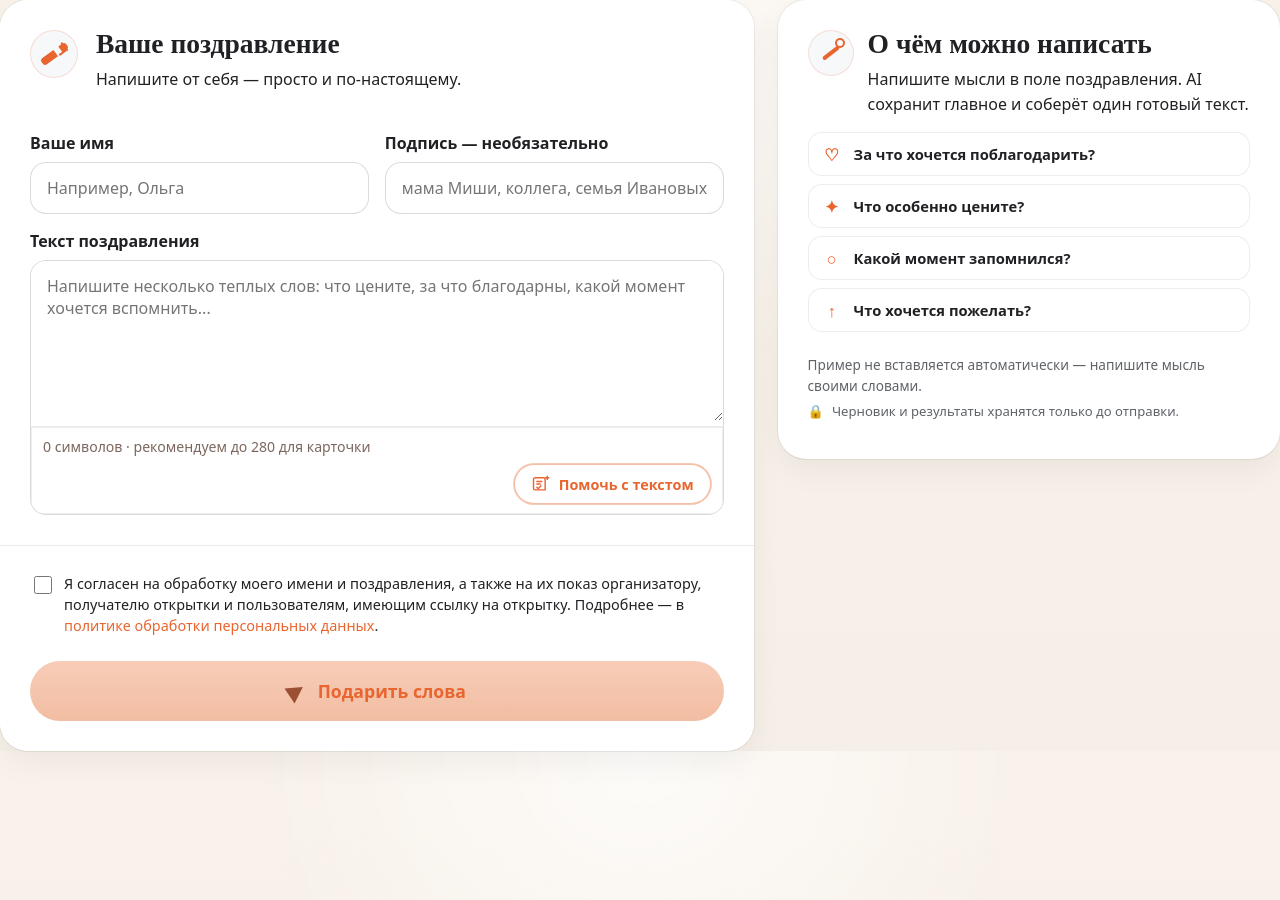
Test case: ParticipantForm — одновариантный AI flow › раскрывает действие без списания и отправляет запрос только по отдельному CTA
Replace the text in the text box labelled "Текст поздравления" with "Спасибо за поддержку и помощь. Желаю радостных дней.": (377, 342) [31,262,723,422]
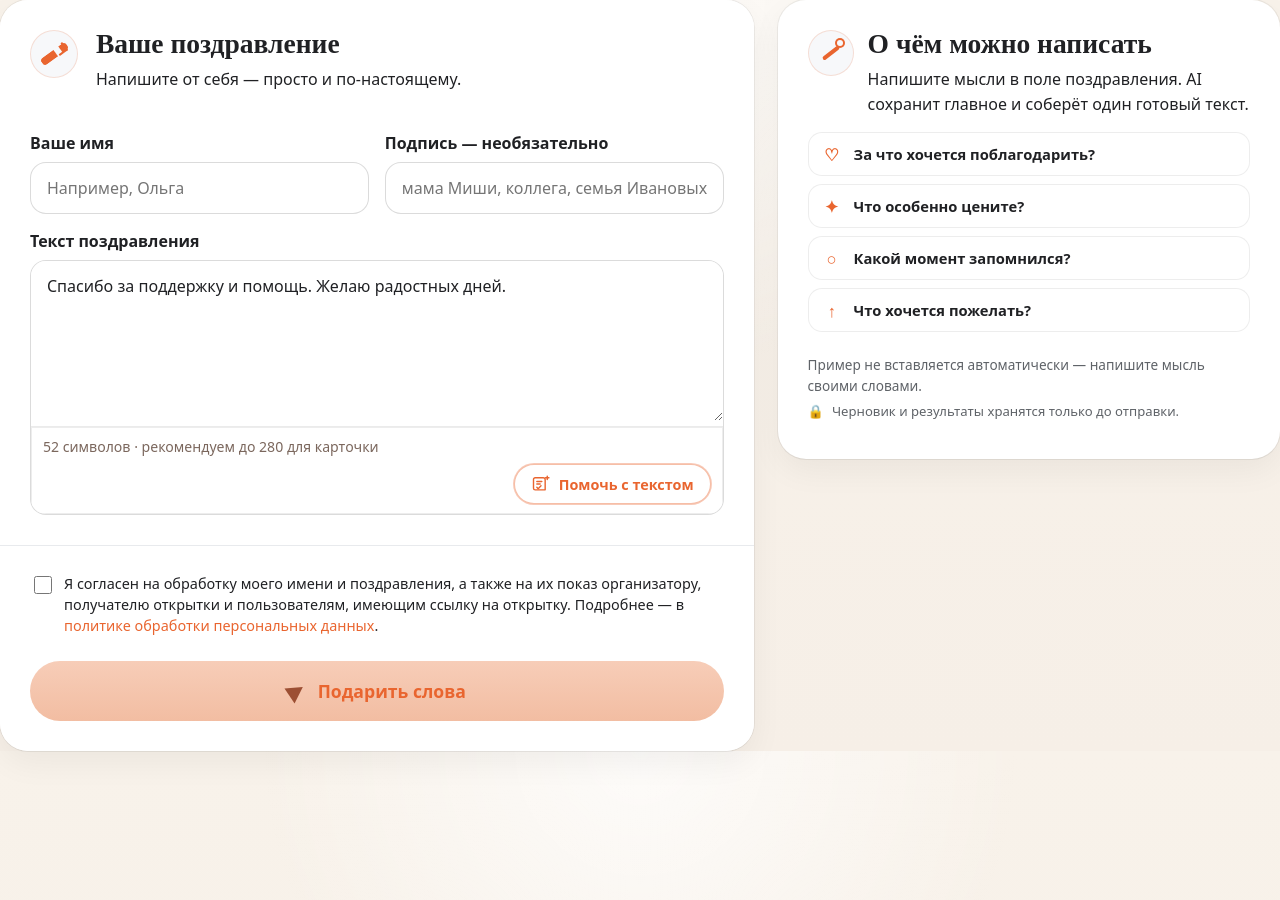
Click the button "Помочь с текстом": (612, 484) [514,464,711,504]
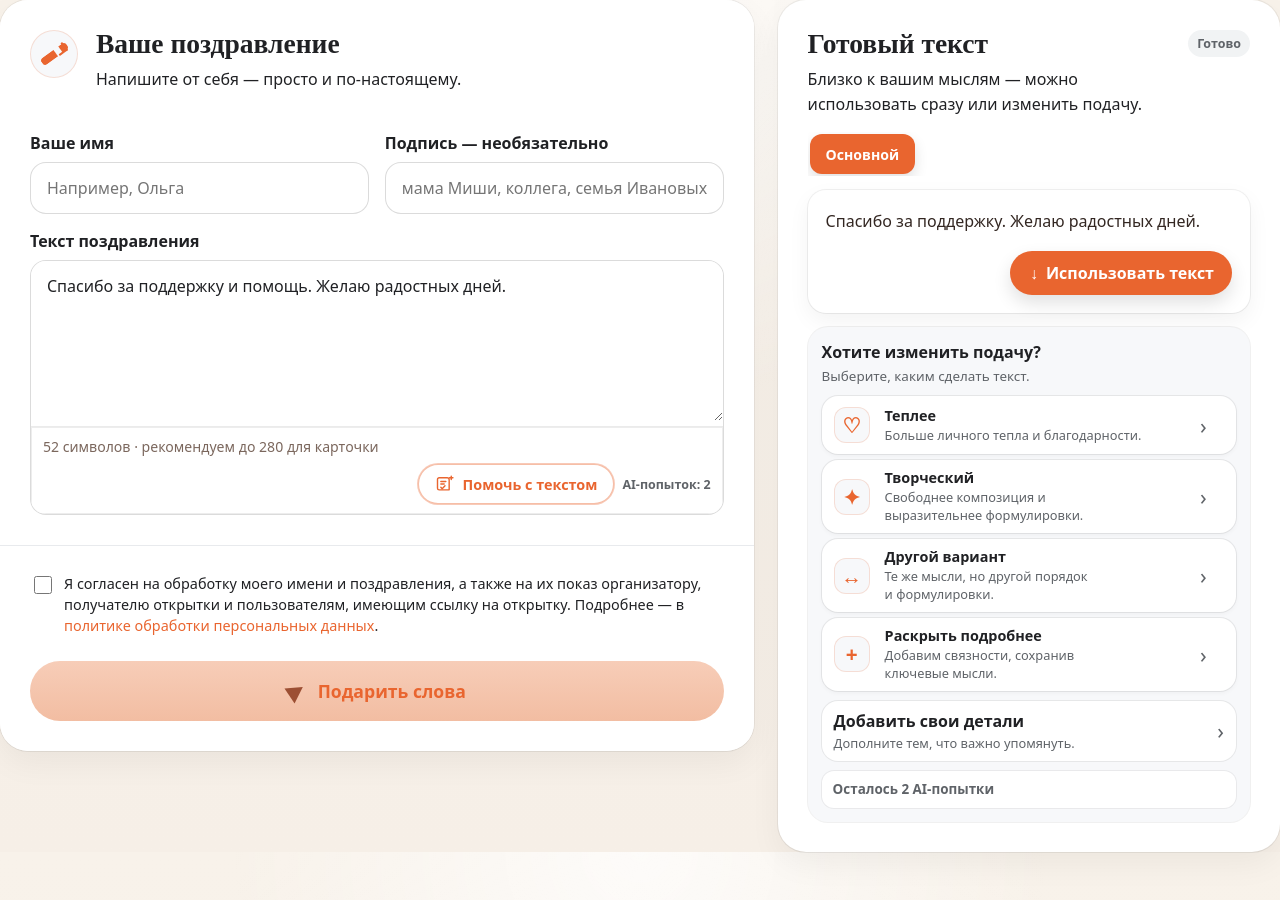
Expected: the text "Спасибо за поддержку. Желаю радостных дней." is shown, [826,208,1232,235]
Click the button "♡ Теплее Больше личного тепла и благодарности. ›": (1029, 425) [822,396,1236,454]
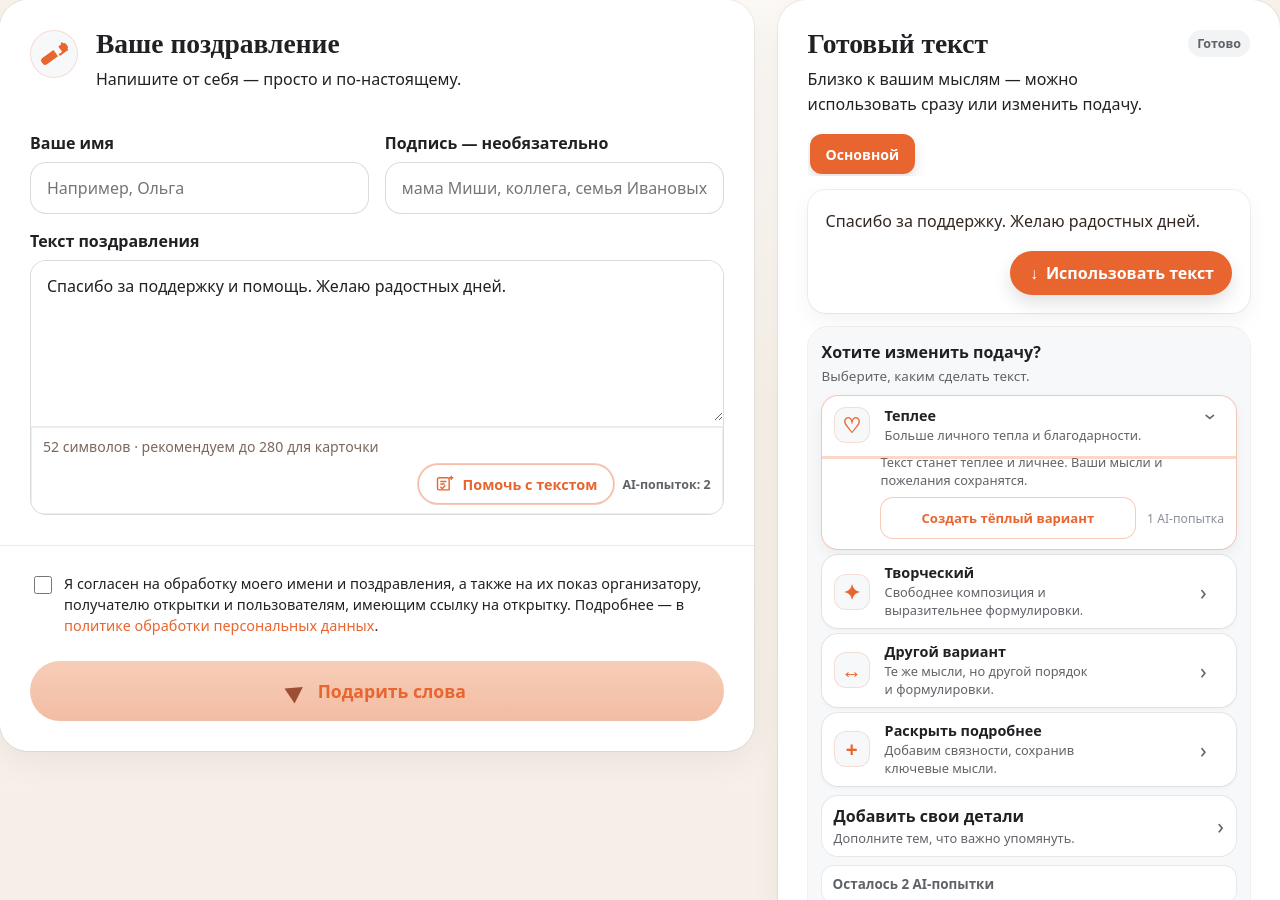
Click the button "Создать тёплый вариант": (1008, 518) [881,498,1135,538]
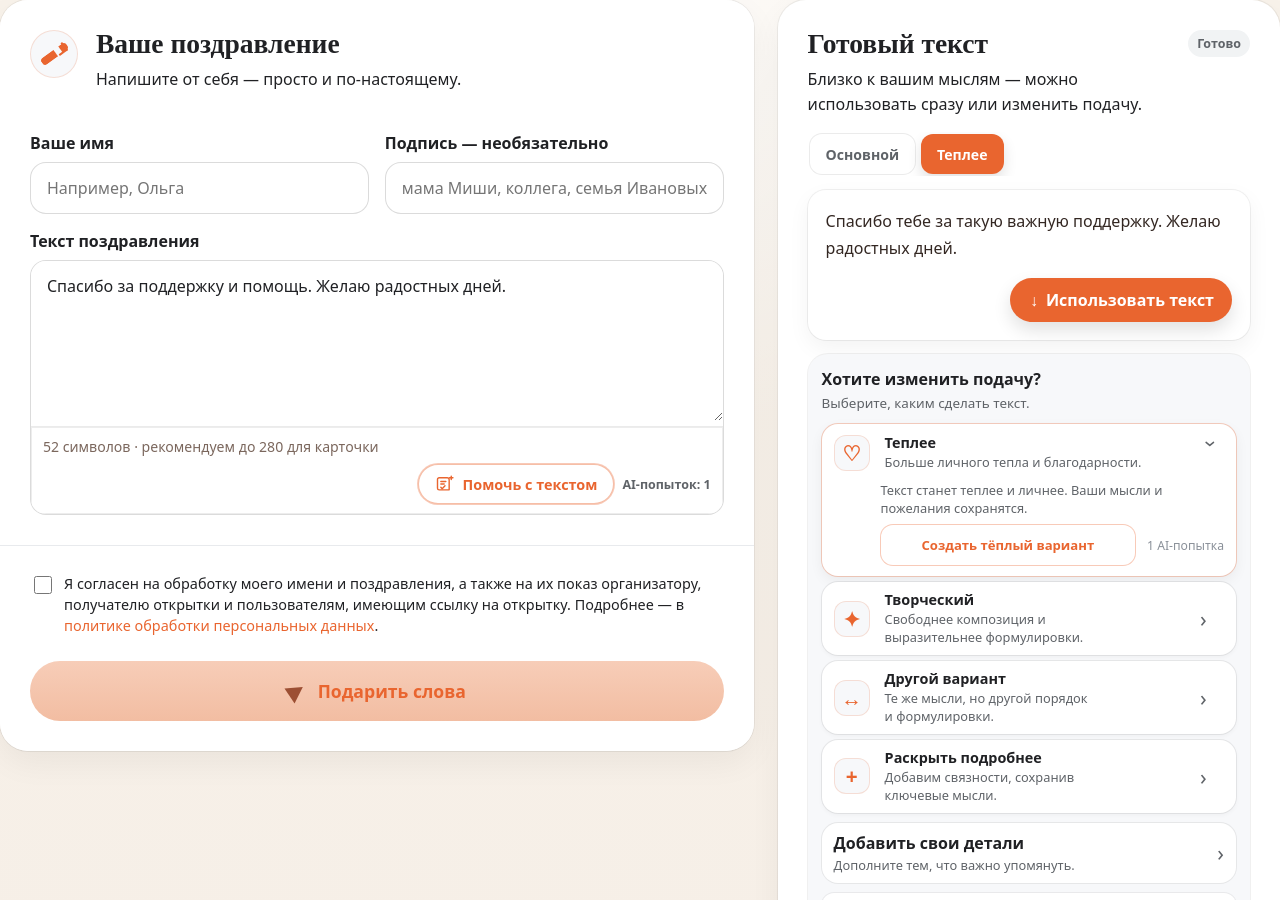
Expected: the tab "Теплее" is shown, [921,134,1004,174]
